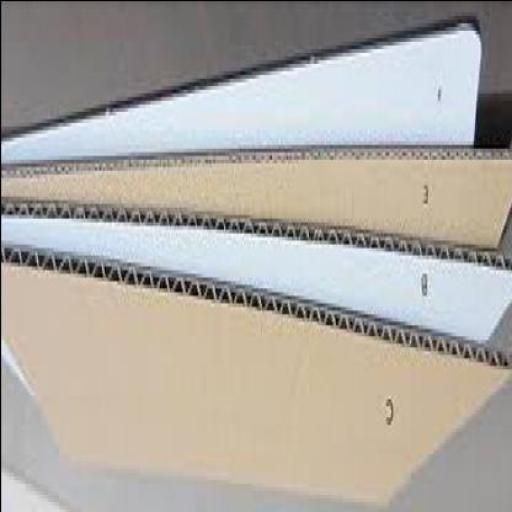cardboard: (1, 250, 511, 498), (1, 202, 511, 351), (2, 15, 482, 166), (1, 158, 511, 248), (2, 335, 31, 402)
